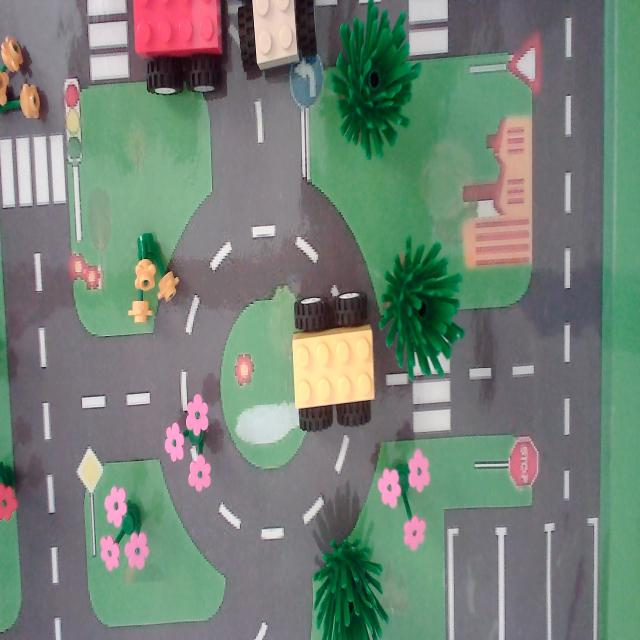Car: (282, 280, 390, 432), (132, 0, 230, 97), (232, 0, 327, 95)
Flower: (364, 429, 451, 570), (110, 202, 193, 345), (151, 377, 238, 504), (85, 482, 162, 586), (0, 26, 47, 133)
Tree: (329, 1, 429, 160), (380, 224, 468, 395), (298, 528, 404, 640)
